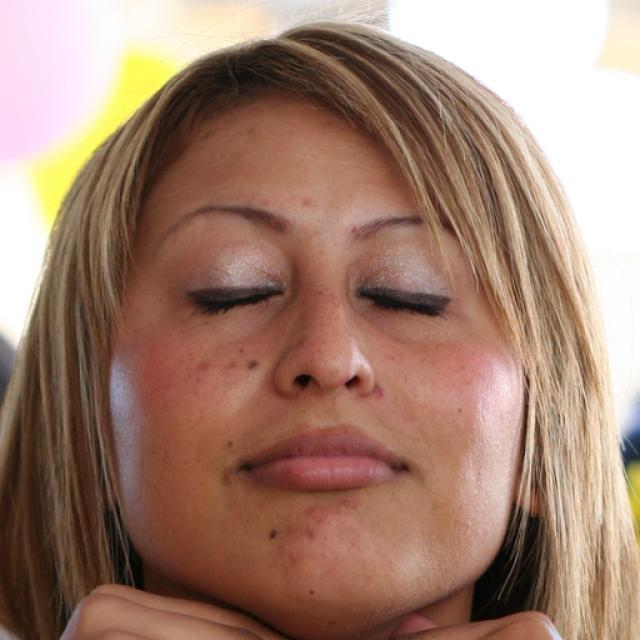content: (115, 70, 533, 616)
